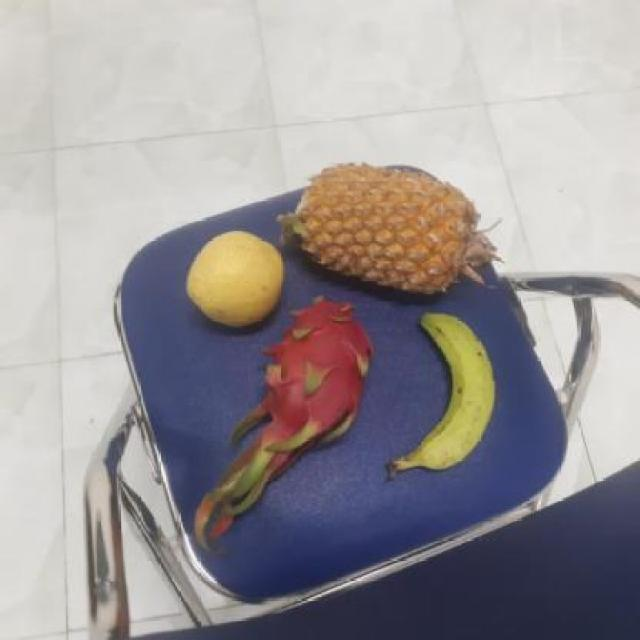banana: (391, 315, 497, 471)
dragon fruit: (253, 300, 373, 438)
pear: (182, 228, 288, 330)
pineapple: (286, 161, 489, 301)
